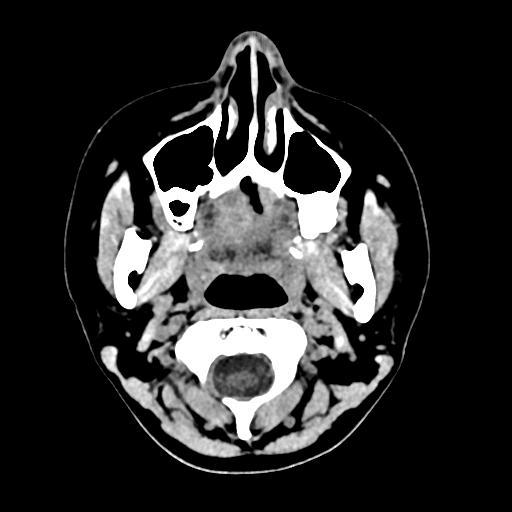Normal_Brain: (32, 18, 482, 486)
